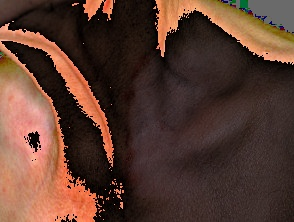vitiligo: (103, 0, 294, 222)
